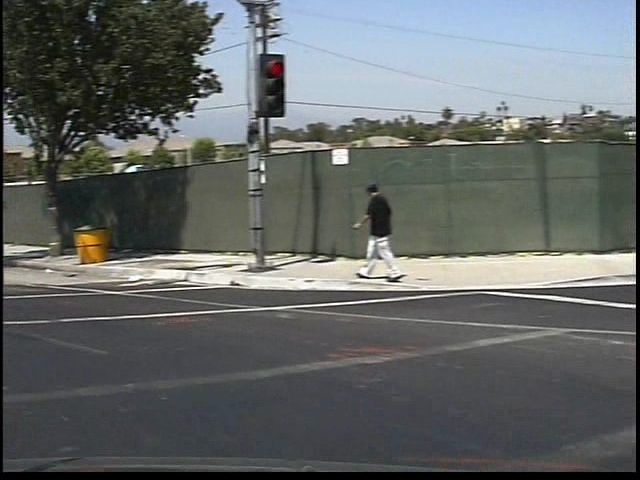person: (342, 163, 394, 286)
